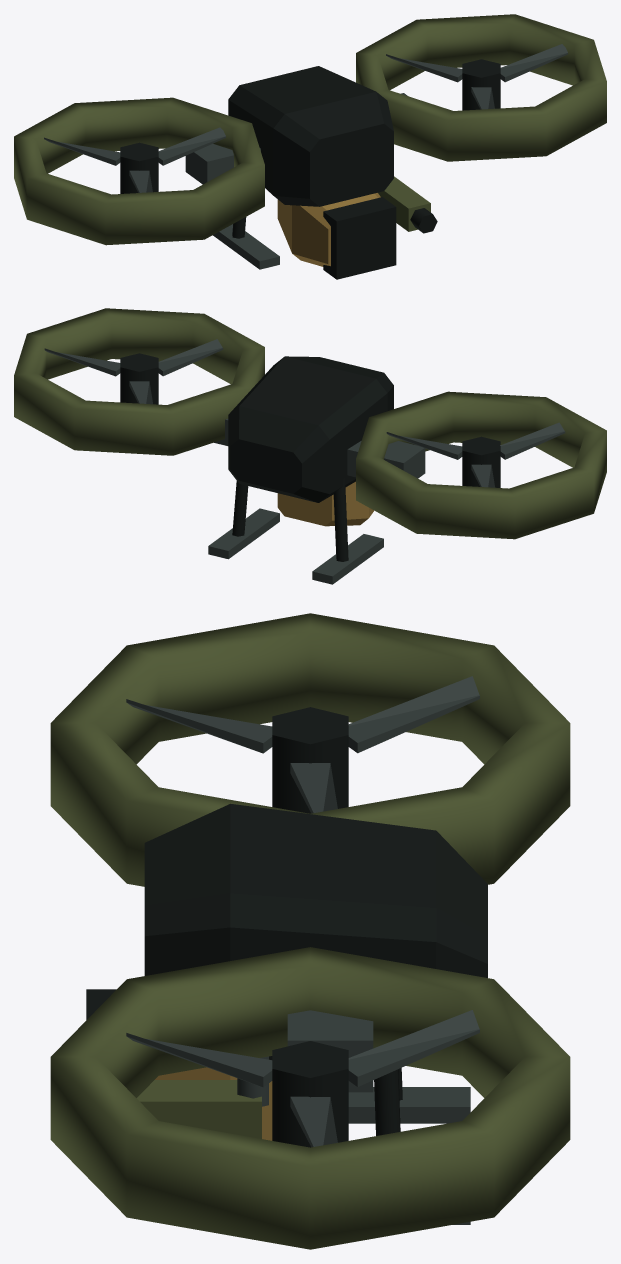
File: BUZZ_DRONE.shadow.glb
3 renders of one model, top to bottom at view 1: azimuth 30°, elevation 25°; view 2: azimuth 150°, elevation 25°; view 3: azimuth 270°, elevation 25°, orthographic. The views are drawn at different scales.
Parts seen in each view (by area): view 1: FlightTilt_Mesh, OpticGimbal_Mesh, Rotor_L_Mesh, Rotor_R_Mesh, ProjectionNozzle_Mesh; view 2: FlightTilt_Mesh, Rotor_R_Mesh, Rotor_L_Mesh, OpticGimbal_Mesh; view 3: FlightTilt_Mesh, Rotor_L_Mesh, Rotor_R_Mesh, ProjectionNozzle_Mesh, OpticGimbal_Mesh.
Part boxes in pixels (x1,y1,x2,y2): FlightTilt_Mesh: [14, 14, 606, 269]; OpticGimbal_Mesh: [277, 193, 396, 279]; Rotor_L_Mesh: [44, 127, 225, 193]; Rotor_R_Mesh: [386, 44, 567, 110]; ProjectionNozzle_Mesh: [378, 176, 437, 233]; FlightTilt_Mesh: [14, 308, 606, 584]; Rotor_R_Mesh: [44, 339, 223, 404]; Rotor_L_Mesh: [386, 422, 565, 487]; OpticGimbal_Mesh: [277, 481, 374, 526]; FlightTilt_Mesh: [50, 613, 570, 1249]; Rotor_L_Mesh: [126, 676, 479, 813]; Rotor_R_Mesh: [126, 1010, 479, 1147]; ProjectionNozzle_Mesh: [136, 1056, 268, 1138]; OpticGimbal_Mesh: [86, 989, 272, 1140].
Size of the model in its own units: 2.29 by 0.609 by 0.908.
